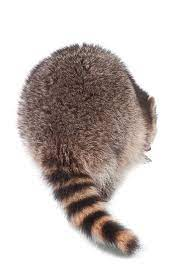raccoon: (18, 44, 154, 257)
